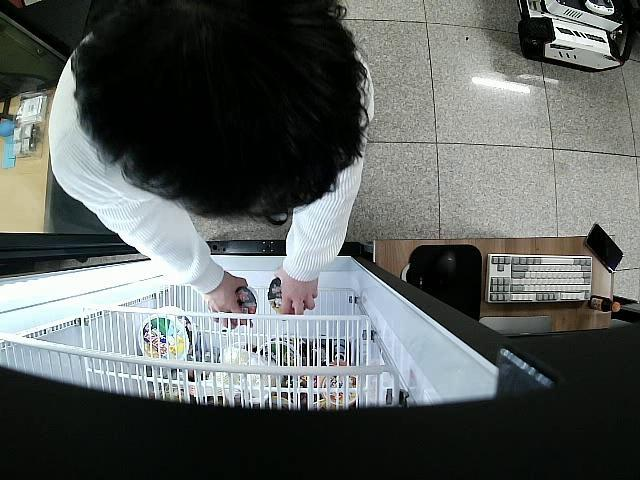08_buldak_S: (268, 278, 306, 314), (232, 285, 258, 324)
